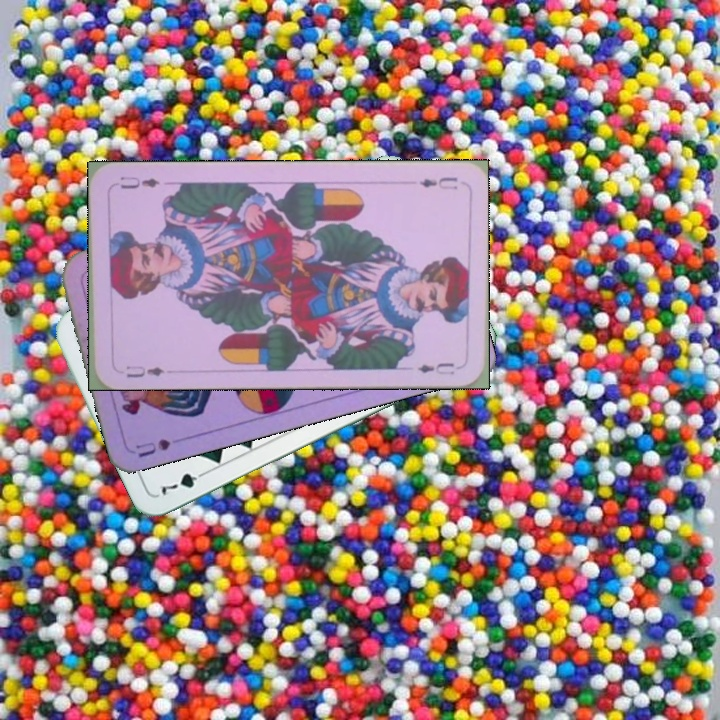EU: (122, 361, 173, 380), (415, 173, 460, 192)
G7: (157, 466, 211, 499)
SU: (131, 432, 191, 460)
